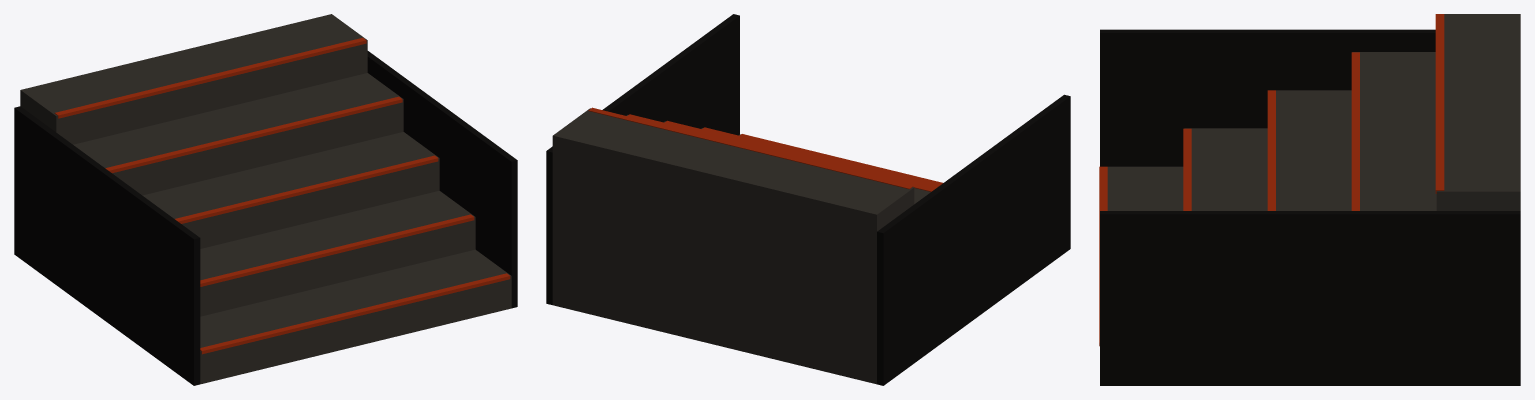
Rendered from SM_Stairs_2x2_Rise1_Hideout.glb.
3 renders of one model, left to right at view 1: azimuth 30°, elevation 25°; view 2: azimuth 150°, elevation 25°; view 3: azimuth 270°, elevation 25°, orthographic. The views are drawn at different scales.
Parts seen in each view (by area): view 1: SM_Stairs_2x2_Rise1_Hideout-col; view 2: SM_Stairs_2x2_Rise1_Hideout-col; view 3: SM_Stairs_2x2_Rise1_Hideout-col.
Part boxes in pixels (<box>): SM_Stairs_2x2_Rise1_Hideout-col: <box>14,14,517,385</box>; SM_Stairs_2x2_Rise1_Hideout-col: <box>546,14,1070,385</box>; SM_Stairs_2x2_Rise1_Hideout-col: <box>1099,14,1520,385</box>.
Bounding box in the file's own units: 2.08 × 1 × 2.
